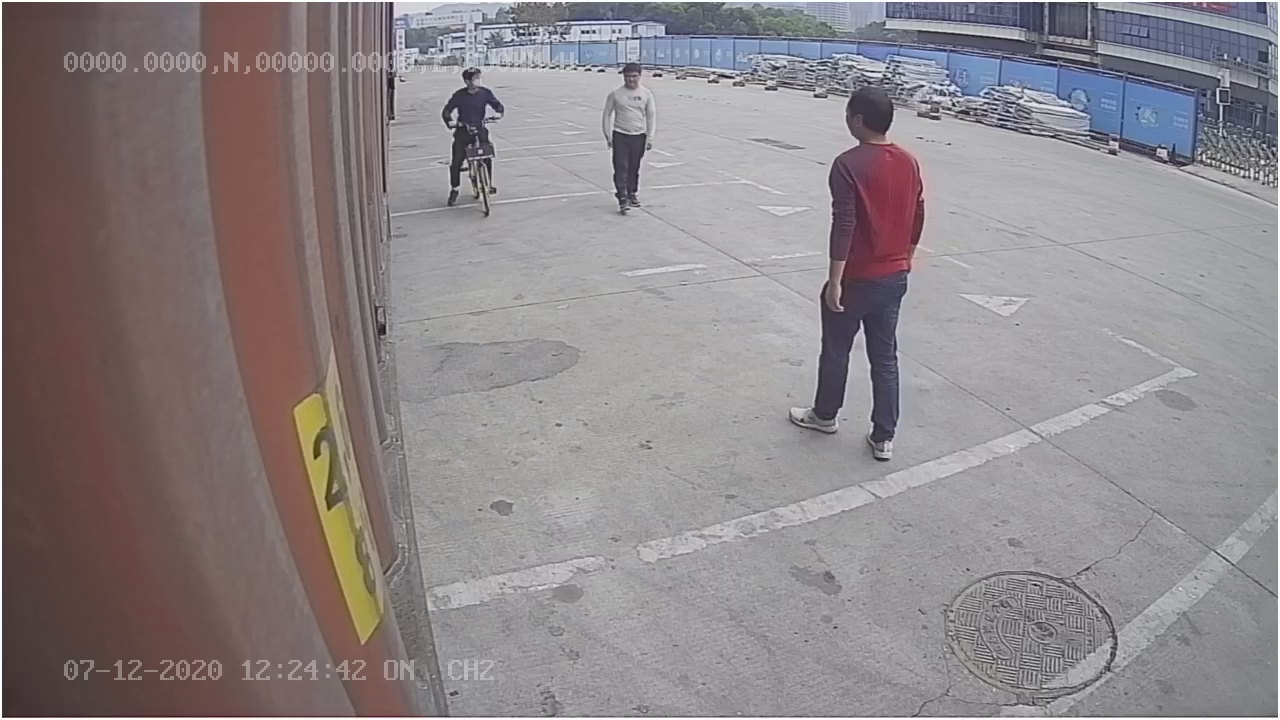person: (783, 82, 929, 464), (596, 58, 661, 217)
